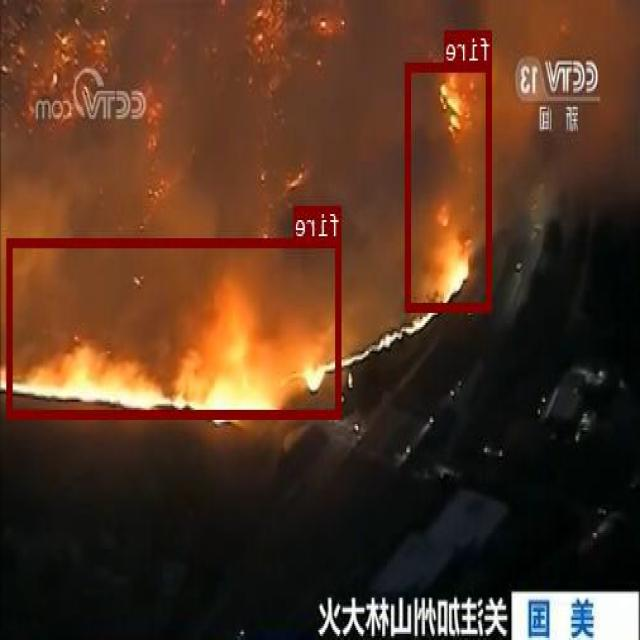fire: (9, 238, 342, 418), (406, 62, 492, 310)
